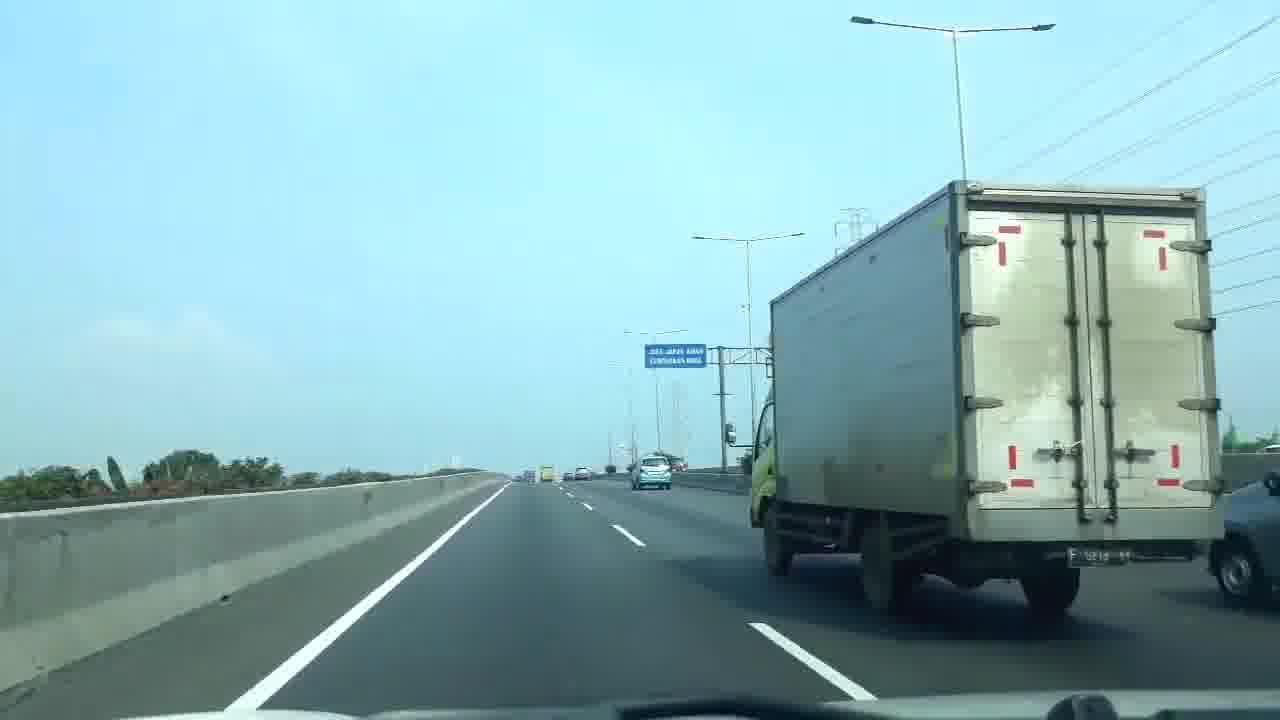plate_positive: (1067, 547, 1134, 569)
